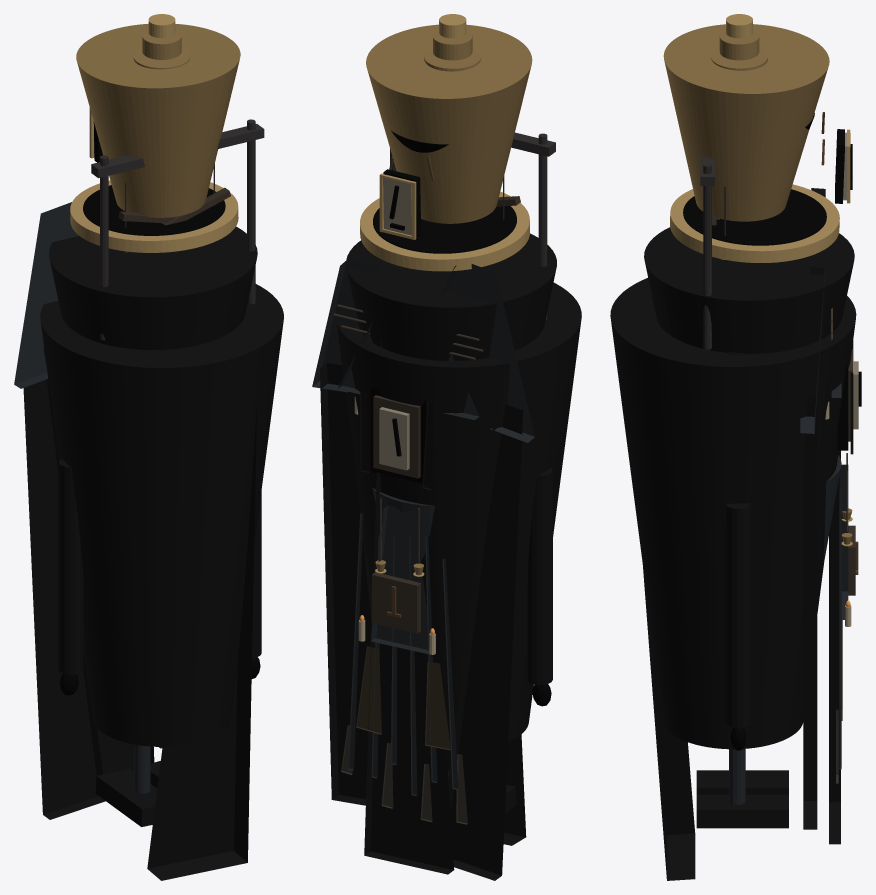
The model's file is bell_saint_v6h_final_form_pass.glb.
3 renders of one model, left to right at view 1: azimuth 30°, elevation 25°; view 2: azimuth 150°, elevation 25°; view 3: azimuth 270°, elevation 25°, orthographic.
Parts seen in each view (by area): view 1: BS6H_MainRobe_ContinuousHeavy, BS6H_BellHead_Main, BS6H_UpperRobe_BroadMantleBase, BS6H_LeftOuterRobeFall_Long, BS6H_BackDraggingTrain_Subtle, BS6H_LeftForeSleeve_Swallowed, BS6H_LeftShoulderMantle_Long, BS6H_BellOuterLip, BS6H_BellInnerLipShadow, BS6H_LeftFoot, BS6H_BackTopCrossbar, BS6H_BackRightPost (+8 smaller); view 2: BS6H_MainRobe_ContinuousHeavy, BS6H_BellHead_Main, BS6H_LeftOuterRobeFall_Long, BS6H_UpperRobe_BroadMantleBase, BS6H_RightOuterRobeFall_Short, BS6H_FrontLongRobePanel, BS6H_LeftForeSleeve_Swallowed, BS6H_BellOuterLip, BS6H_LowerHangingTabard, BS6H_LeftShoulderMantle_Long, BS6H_BellInnerLipShadow, BS6H_LowerPenancePlate (+24 smaller); view 3: BS6H_MainRobe_ContinuousHeavy, BS6H_BellHead_Main, BS6H_UpperRobe_BroadMantleBase, BS6H_RightOuterRobeFall_Short, BS6H_BackDraggingTrain_Subtle, BS6H_RightForeSleeve_Lower, BS6H_BellOuterLip, BS6H_BellInnerLipShadow, BS6H_FrontLongRobePanel, BS6H_RightFoot, BS6H_LeftFoot, BS6H_BackRightPost (+11 smaller).
Part boxes in pixels (x1=…): BS6H_MainRobe_ContinuousHeavy: x1=40, y1=284, x2=283, y2=746; BS6H_BellHead_Main: x1=76, y1=23, x2=240, y2=217; BS6H_UpperRobe_BroadMantleBase: x1=49, y1=226, x2=257, y2=349; BS6H_LeftOuterRobeFall_Long: x1=23, y1=349, x2=105, y2=819; BS6H_BackDraggingTrain_Subtle: x1=147, y1=400, x2=257, y2=880; BS6H_LeftForeSleeve_Swallowed: x1=58, y1=459, x2=83, y2=674; BS6H_LeftShoulderMantle_Long: x1=14, y1=202, x2=78, y2=388; BS6H_BellOuterLip: x1=70, y1=180, x2=238, y2=252; BS6H_BellInnerLipShadow: x1=83, y1=185, x2=225, y2=235; BS6H_LeftFoot: x1=95, y1=769, x2=157, y2=826; BS6H_BackTopCrossbar: x1=91, y1=124, x2=264, y2=178; BS6H_BackRightPost: x1=247, y1=119, x2=255, y2=304; BS6H_MainRobe_ContinuousHeavy: x1=336, y1=282, x2=581, y2=750; BS6H_BellHead_Main: x1=366, y1=24, x2=532, y2=223; BS6H_LeftOuterRobeFall_Long: x1=448, y1=404, x2=523, y2=880; BS6H_UpperRobe_BroadMantleBase: x1=346, y1=233, x2=556, y2=360; BS6H_RightOuterRobeFall_Short: x1=320, y1=363, x2=371, y2=805; BS6H_FrontLongRobePanel: x1=364, y1=338, x2=454, y2=874; BS6H_LeftForeSleeve_Swallowed: x1=527, y1=468, x2=552, y2=684; BS6H_BellOuterLip: x1=360, y1=191, x2=529, y2=271; BS6H_LowerHangingTabard: x1=370, y1=505, x2=429, y2=653; BS6H_LeftShoulderMantle_Long: x1=440, y1=264, x2=534, y2=442; BS6H_BellInnerLipShadow: x1=373, y1=206, x2=516, y2=253; BS6H_LowerPenancePlate: x1=371, y1=572, x2=420, y2=633; BS6H_MainRobe_ContinuousHeavy: x1=610, y1=278, x2=856, y2=749; BS6H_BellHead_Main: x1=663, y1=24, x2=829, y2=221; BS6H_UpperRobe_BroadMantleBase: x1=644, y1=227, x2=854, y2=353; BS6H_RightOuterRobeFall_Short: x1=803, y1=397, x2=817, y2=829; BS6H_BackDraggingTrain_Subtle: x1=630, y1=403, x2=695, y2=880; BS6H_RightForeSleeve_Lower: x1=726, y1=503, x2=750, y2=727; BS6H_BellOuterLip: x1=670, y1=184, x2=839, y2=262; BS6H_BellInnerLipShadow: x1=683, y1=189, x2=826, y2=245; BS6H_FrontLongRobePanel: x1=829, y1=450, x2=840, y2=844; BS6H_RightFoot: x1=696, y1=794, x2=788, y2=828; BS6H_LeftFoot: x1=696, y1=770, x2=788, y2=794; BS6H_BackRightPost: x1=703, y1=163, x2=711, y2=349.
Size of the model in its own units: 1.14 by 4.2 by 1.14.
